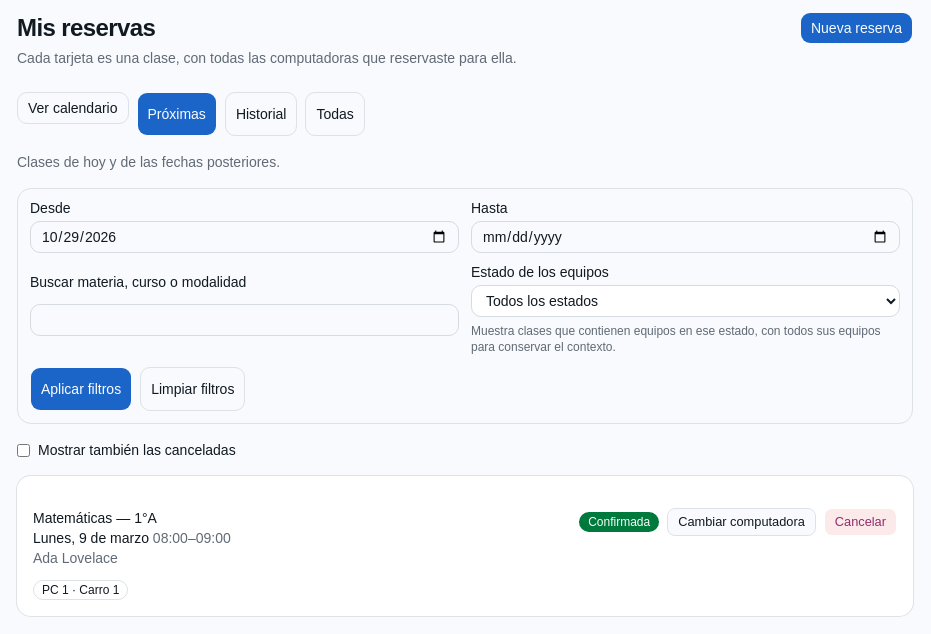
Scenario: MisReservasPage › bloquea un rango invertido antes de consultar y no muestra una lista vacía
This screenshot has width=931, height=634.
Expected: the text "Matemáticas — 1°A" is shown, top-left (33, 510), bottom-right (157, 526)
Type "2026-11-16" into the date field labelled "Desde" at (244, 237), box top-left (30, 221), bottom-right (459, 253)
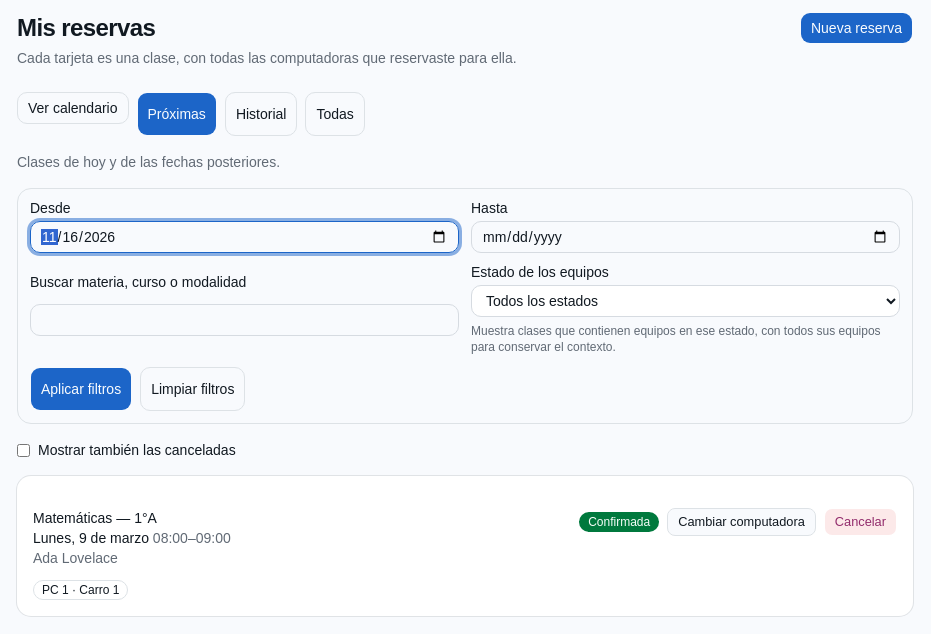
Type "2026-11-02" into the date field labelled "Hasta" at (686, 237), box top-left (471, 221), bottom-right (900, 253)
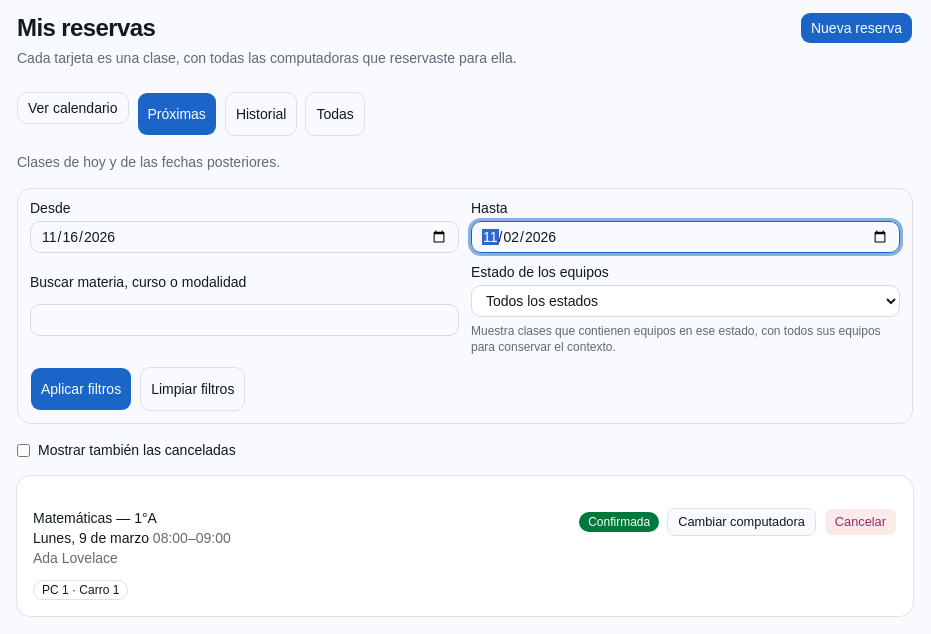
Click the button "Aplicar filtros" at (81, 389), box top-left (30, 367), bottom-right (132, 411)
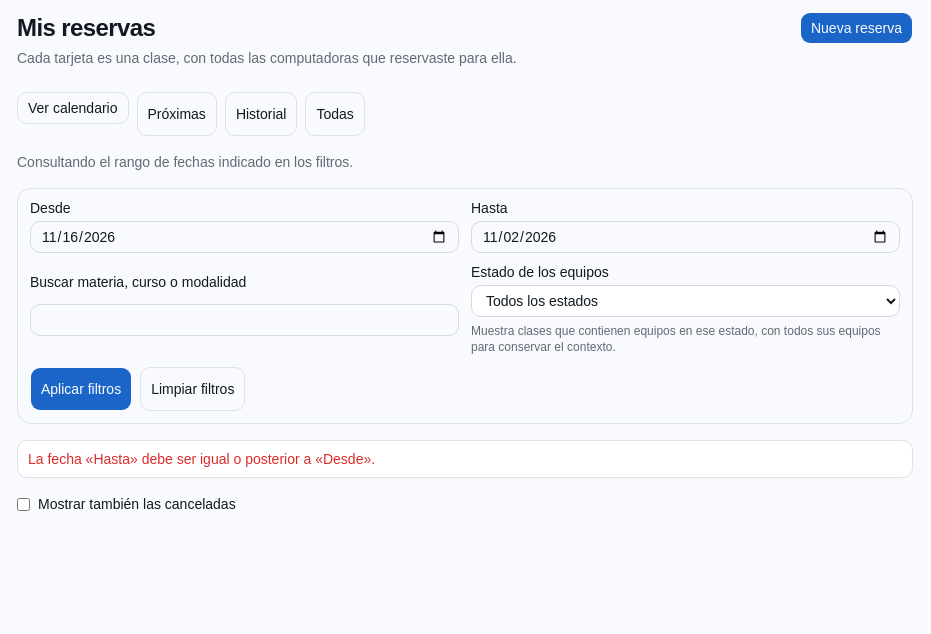
Expected: the message shows "La fecha «Hasta» debe ser igual o posterior", top-left (28, 451), bottom-right (375, 467)
